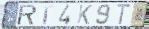4: (57, 4, 72, 26)
9: (94, 3, 112, 26)
K: (76, 5, 93, 26)
R: (17, 4, 38, 26)
T: (115, 3, 132, 27), (40, 5, 55, 25)
